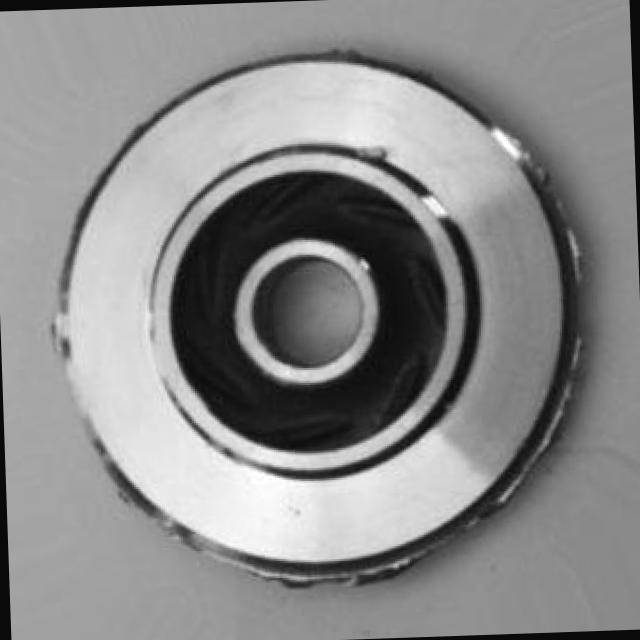Defect: (214, 535, 310, 595), (508, 121, 546, 172), (358, 136, 399, 174)
